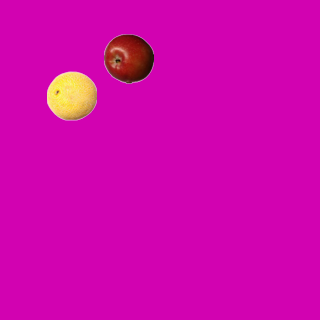Apple Braeburn: (103, 33, 153, 83)
Cantaloupe 1: (46, 70, 96, 120)
